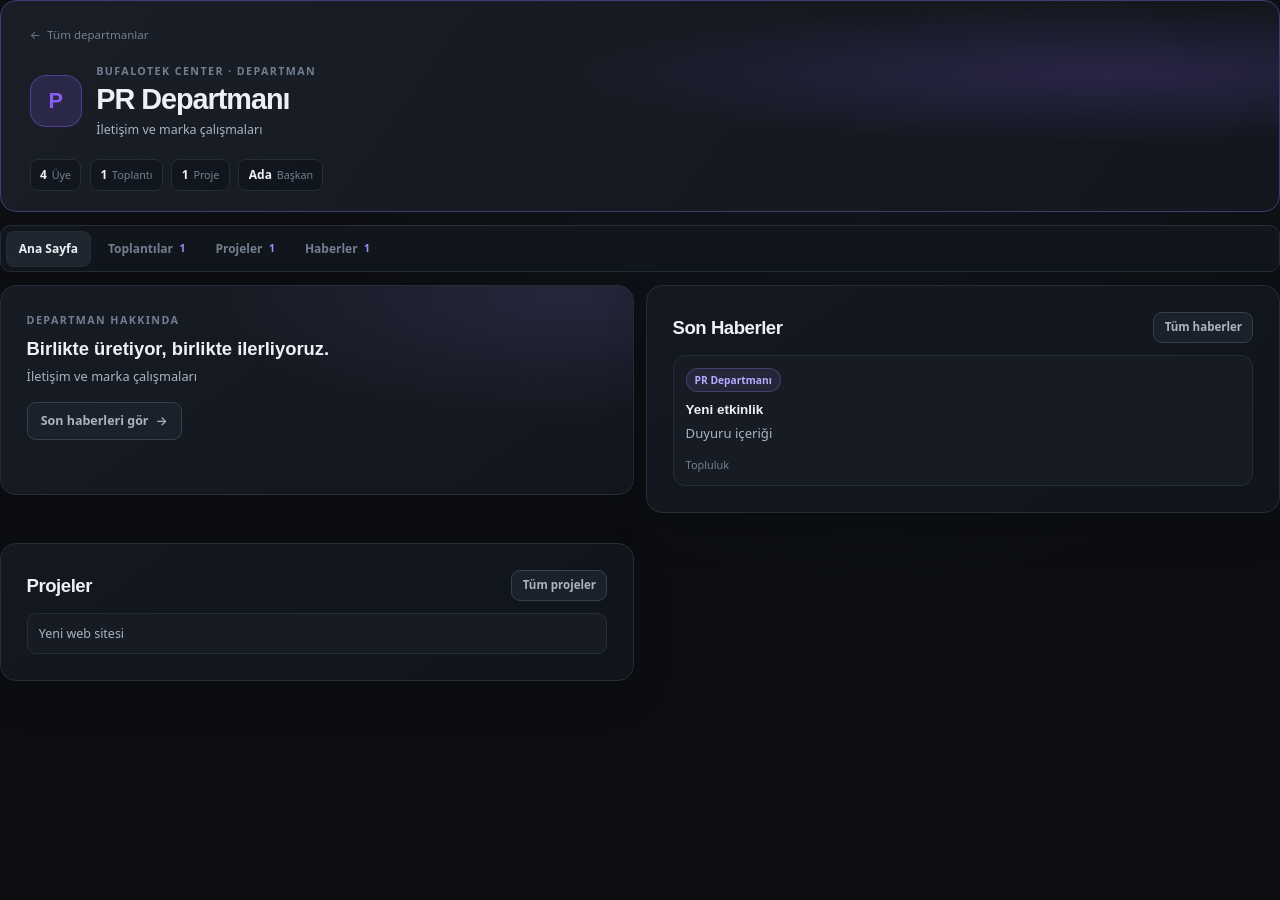
Scenario: provides department home, meetings, projects, and news sections
Check: the heading "PR Departmanı" is shown, box [96,82,316,118]
Check: the heading "Son Haberler" is shown, box [673,315,782,340]
Click the button "Toplantılar 1" at (147, 248), box [95,230,198,266]
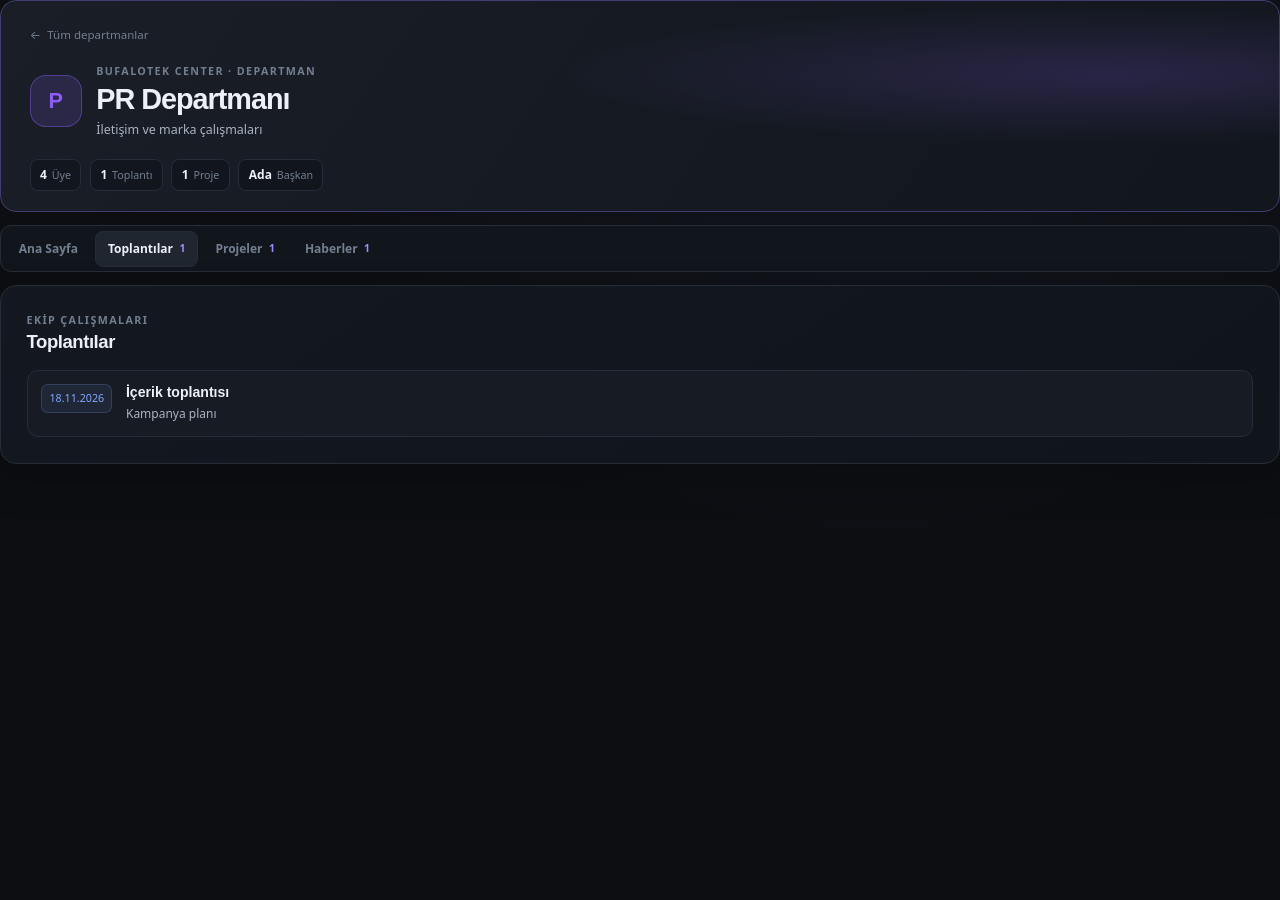
Check: the heading "İçerik toplantısı" is shown, box [126,384,229,400]
Click the button "Projeler 1" at (245, 248), box [202,230,288,266]
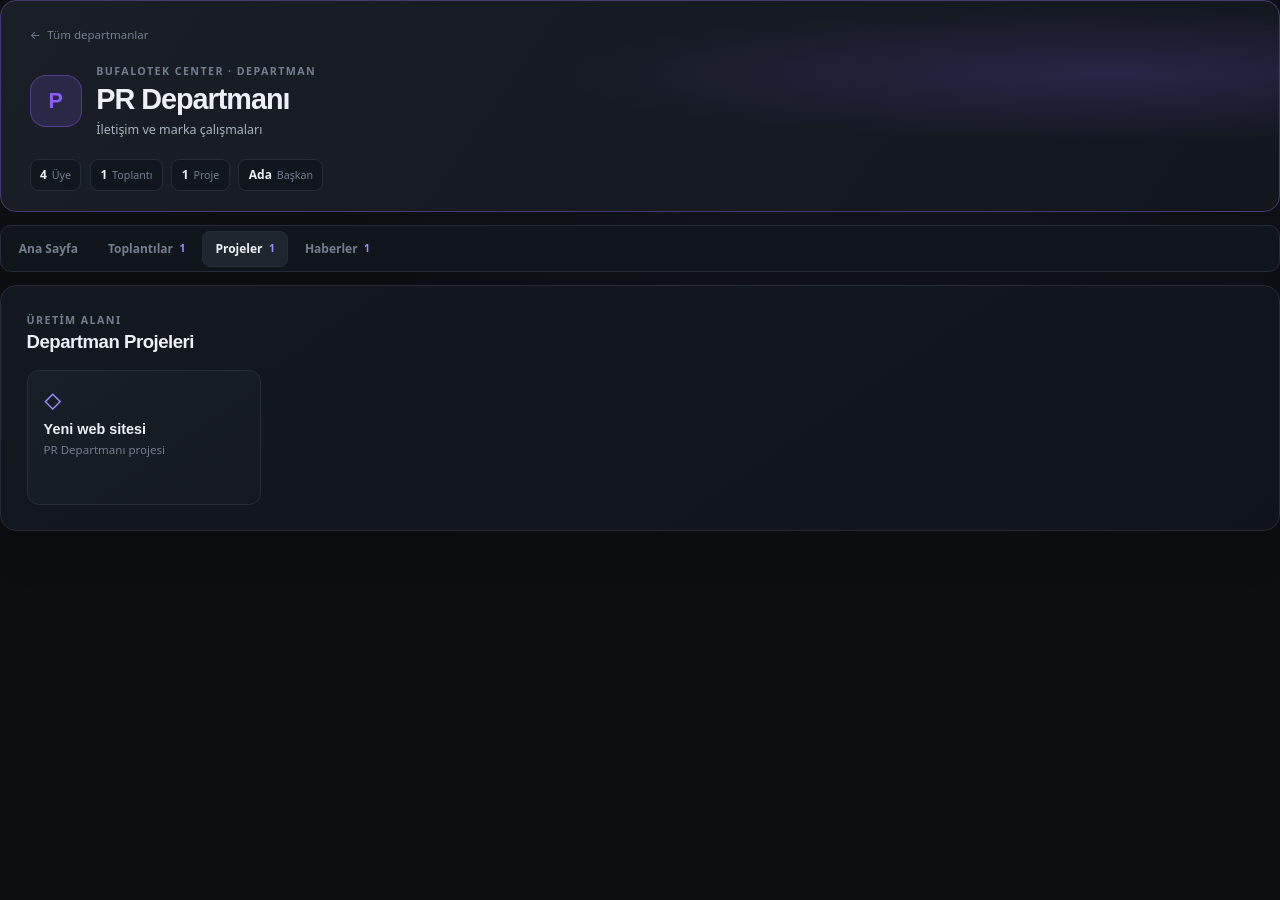
Check: the heading "Yeni web sitesi" is shown, box [44,421,146,437]
Click the button "Haberler 1" at (337, 248), box [292,230,383,266]
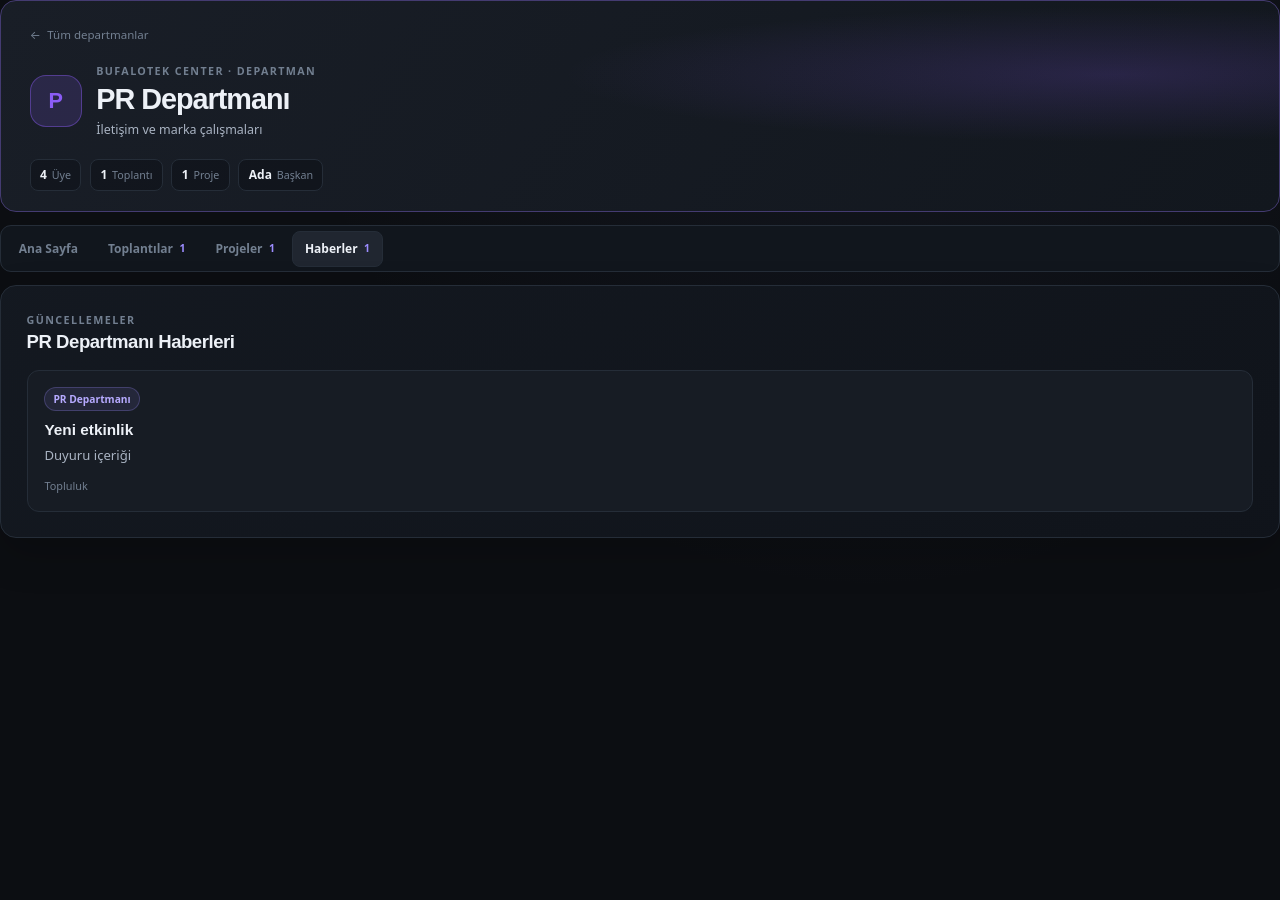
Check: the heading "PR Departmanı Haberleri" is shown, box [27,329,234,354]
Check: the heading "Yeni etkinlik" is shown, box [44,421,133,438]
